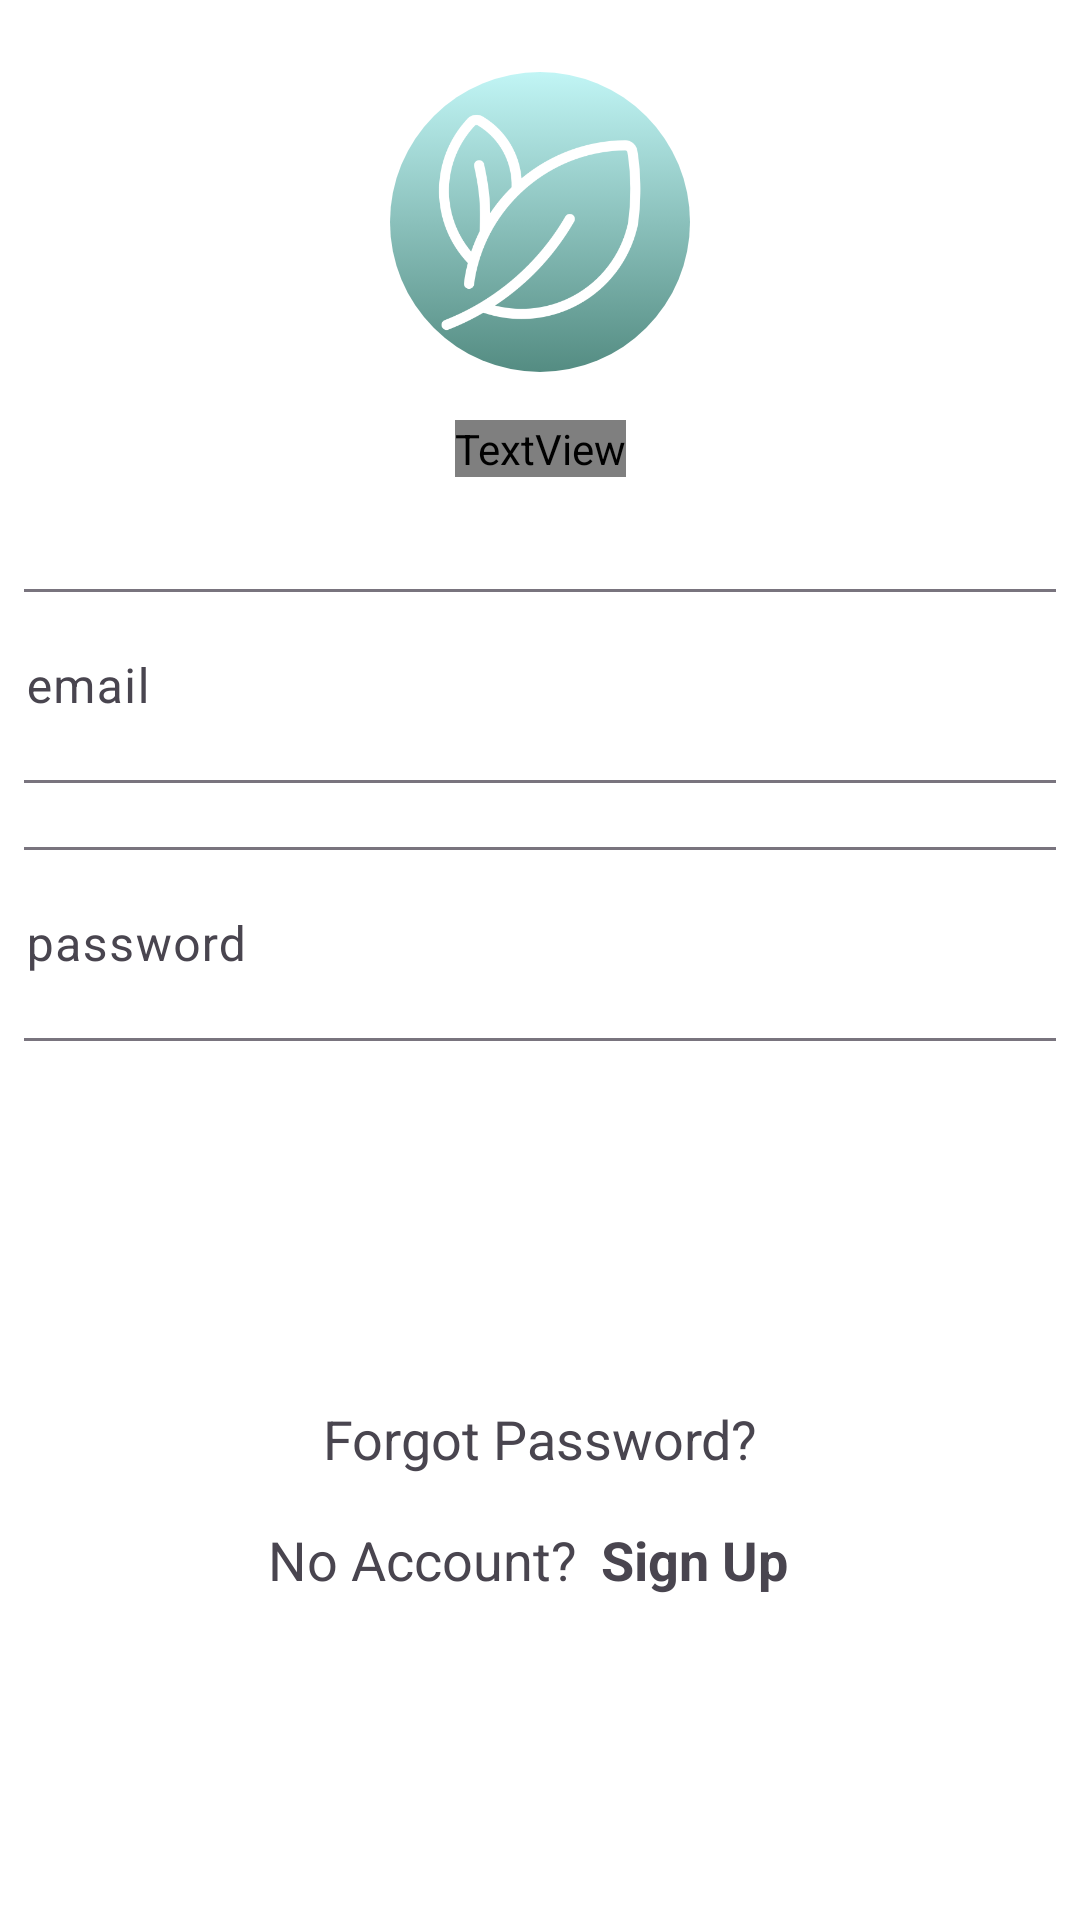

Icons on this 1080×1920 Android screen, each with the point to tap as point (x, y):
leaves: point (540, 222)
